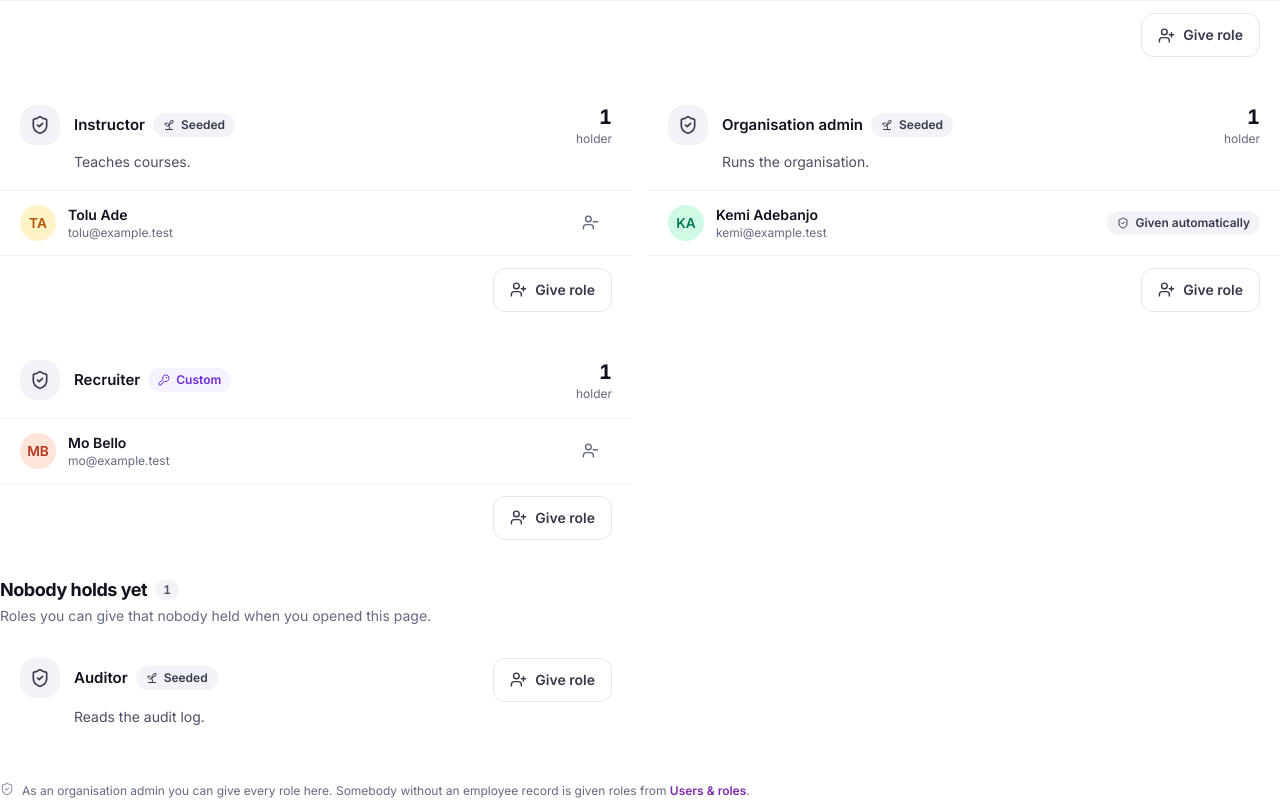
Test: HrRolesBoard › asks before taking a role, then sends the set without it
(page scrolled)
Click the button named "Take Recruiter from Mo Bello" at (590, 451), box 568,429 -> 612,473
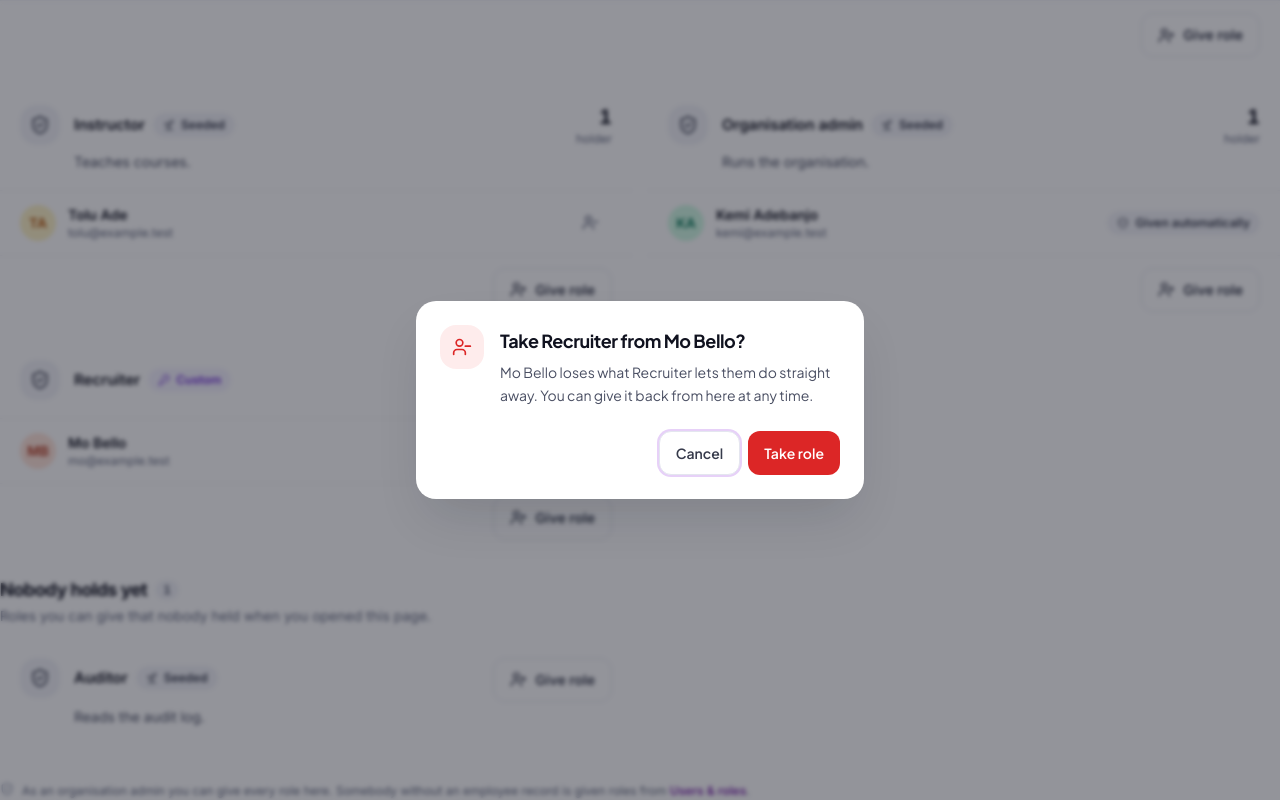
Expected: the heading "Take Recruiter from Mo Bello?" is shown, 500,329 -> 745,352
Click the button "Take role" at (794, 453), box 748,431 -> 840,475
(page scrolled)
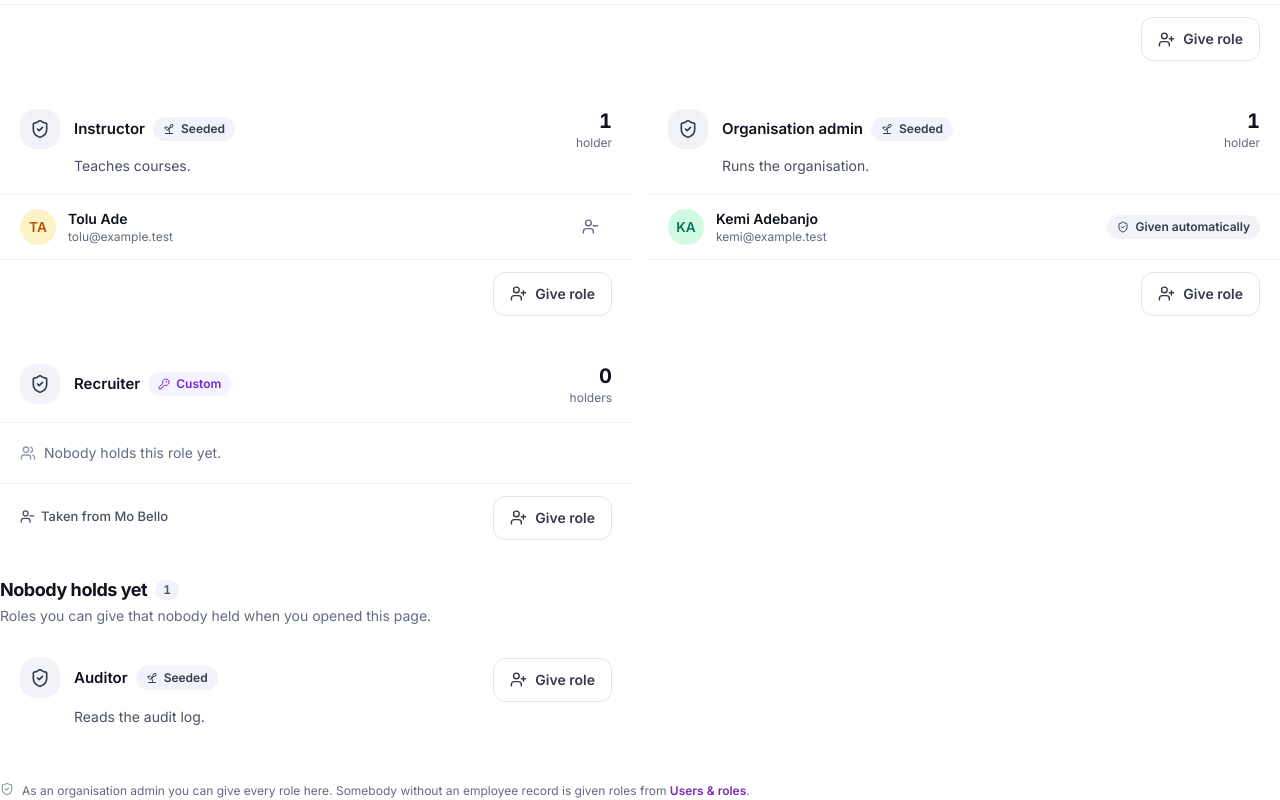
Expected: the heading "Recruiter" is shown, 74,374 -> 140,394
Expected: the text "Nobody holds this role yet." is shown, 20,444 -> 221,461
Expected: the text "Taken from Mo Bello" is shown, 41,507 -> 168,526
